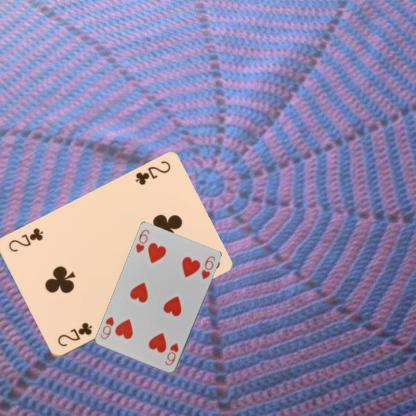2c: (132, 158, 172, 188), (54, 320, 94, 349)
6h: (162, 340, 180, 367), (133, 227, 151, 254)
